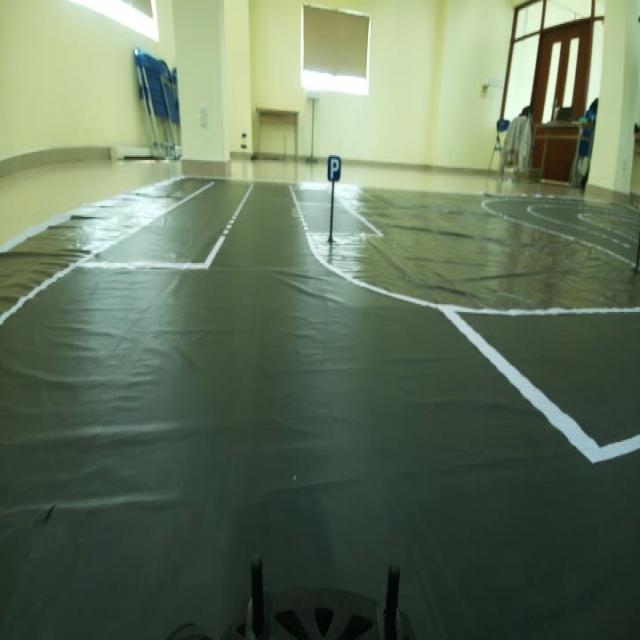parking: (323, 146, 345, 190)
